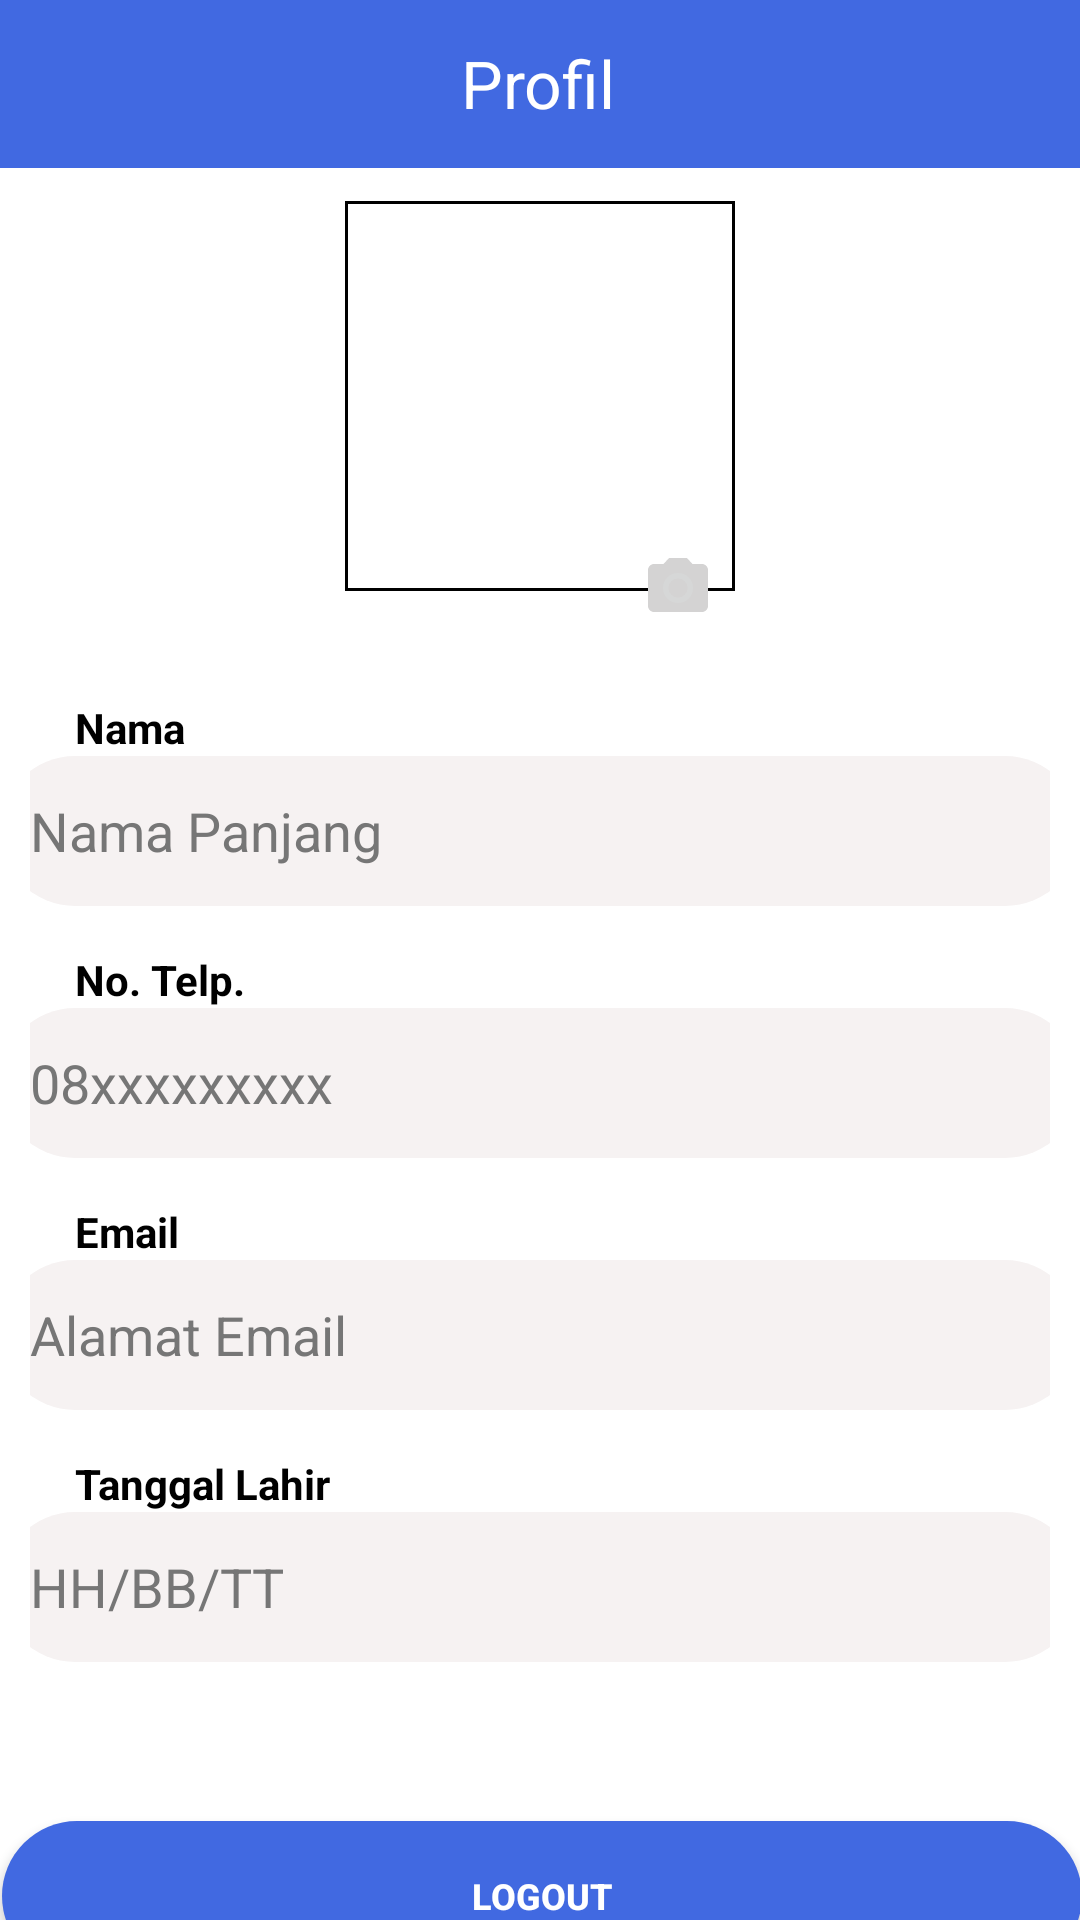

Screen size 1080×1920. Icon name, then its box in pixels as (x1, y1, x2, y2):
Tambah Foto Profil: (640, 558, 715, 612)
